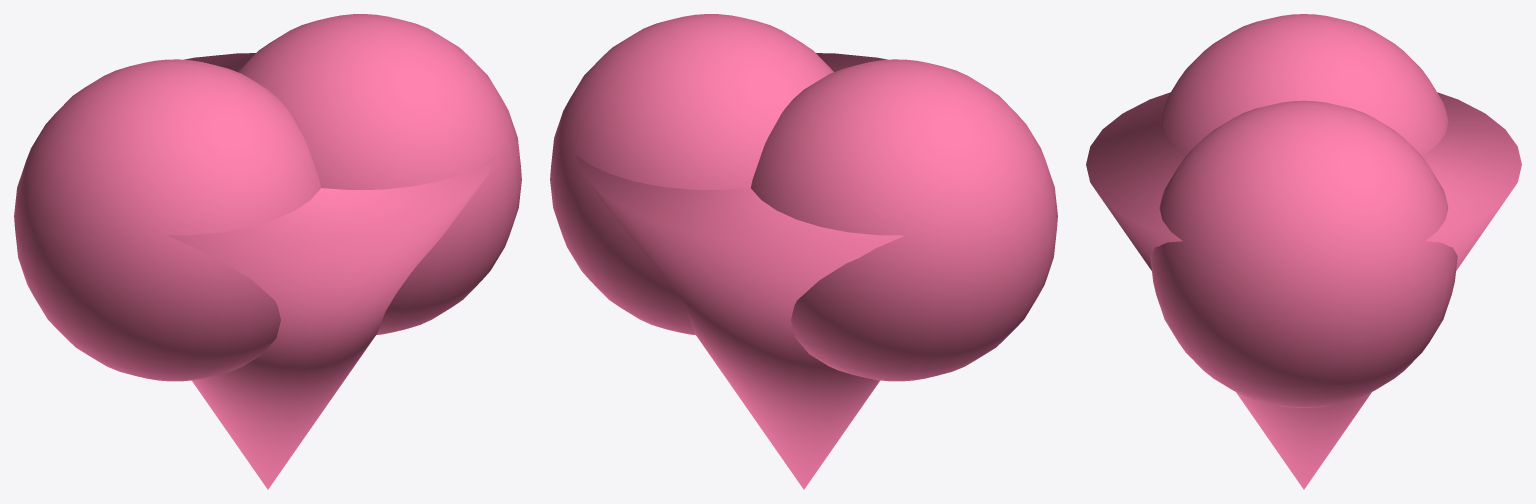
File: malware_sympathy.glb
The picture shows the model from 3 angles, left to right: view 1: azimuth 30°, elevation 25°; view 2: azimuth 150°, elevation 25°; view 3: azimuth 270°, elevation 25°; orthographic projection. The views are drawn at different scales.
Parts seen in each view (by area): view 1: Sphere; view 2: Sphere; view 3: Sphere.
Boxes of the visible parts, bbox=[...] form: Sphere: bbox=[14, 14, 521, 489]; Sphere: bbox=[550, 14, 1057, 489]; Sphere: bbox=[1086, 14, 1521, 489].
Size of the model in its own units: 2 by 1.8 by 1.7.
